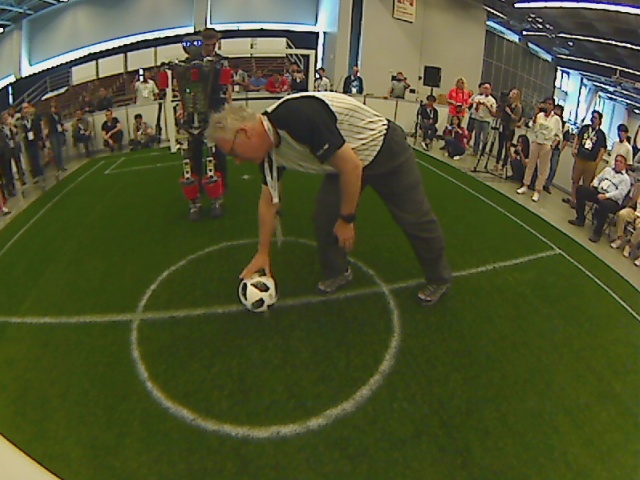ball: (236, 273, 283, 316)
